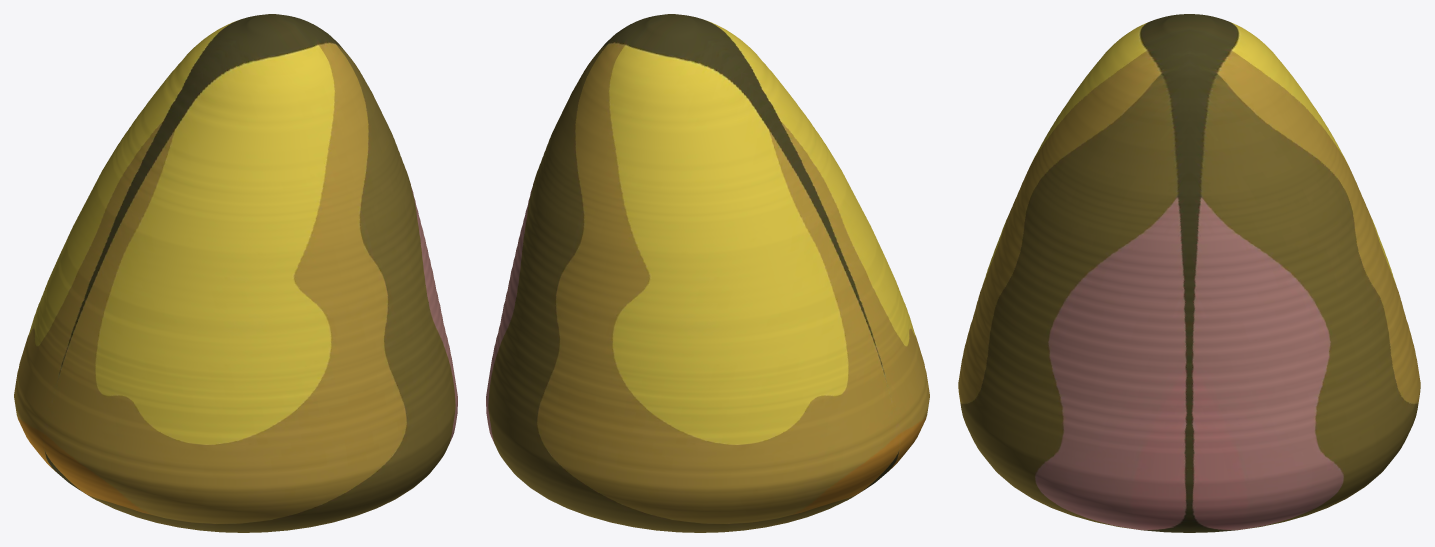
The model's file is amber_stone.glb.
3 views of the same model, side by side, from view 1: azimuth 30°, elevation 25°; view 2: azimuth 150°, elevation 25°; view 3: azimuth 270°, elevation 25° (orthographic). The views are drawn at different scales.
Visible parts, largest first — view 1: amber_stone; view 2: amber_stone; view 3: amber_stone.
Part boxes in pixels (x1,y1,x2,y2): amber_stone: [14, 14, 457, 532]; amber_stone: [486, 14, 929, 532]; amber_stone: [958, 14, 1420, 532].
Bounding box in the file's own units: 1 × 1.15 × 1.
Materials: 1 (1 with a texture image).
